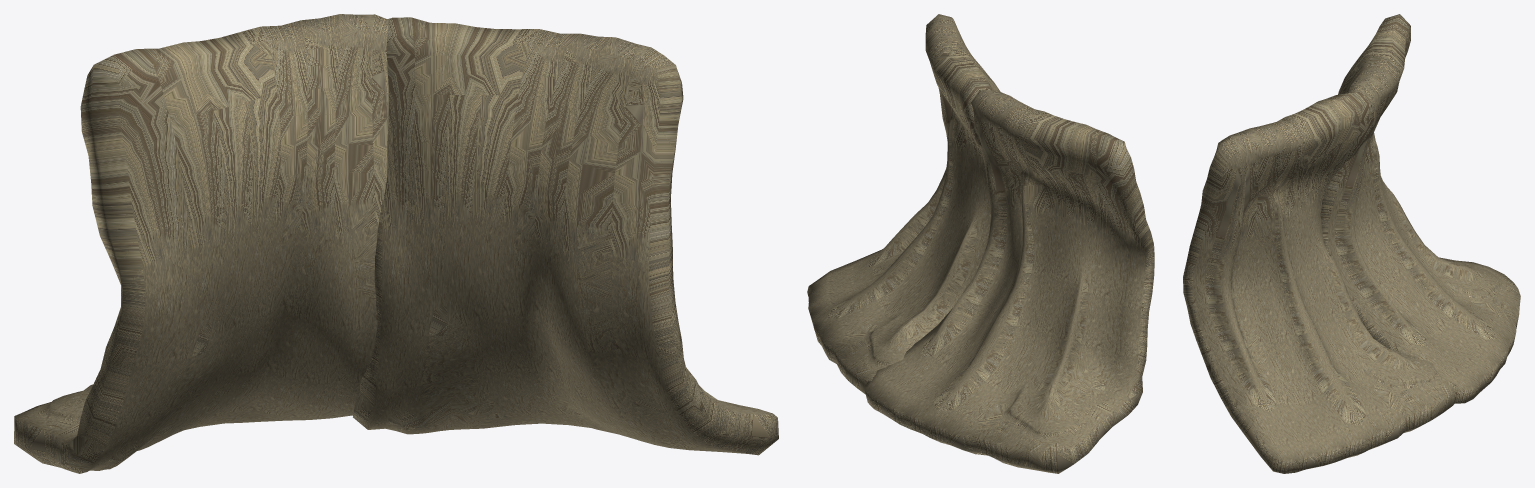
Rendered from saltmine_convex_03.dae.
The picture shows the model from 3 angles, left to right: view 1: azimuth 30°, elevation 25°; view 2: azimuth 150°, elevation 25°; view 3: azimuth 270°, elevation 25°; orthographic projection. The views are drawn at different scales.
Visible parts, largest first — view 1: convex_ribbed_01; view 2: convex_ribbed_01; view 3: convex_ribbed_01.
Boxes of the visible parts, x1,y1,x2,y2 form: convex_ribbed_01: (14, 14, 778, 473); convex_ribbed_01: (807, 14, 1154, 473); convex_ribbed_01: (1183, 14, 1520, 473).
Bounding box in the file's own units: 15.01 × 11.12 × 11.45.
